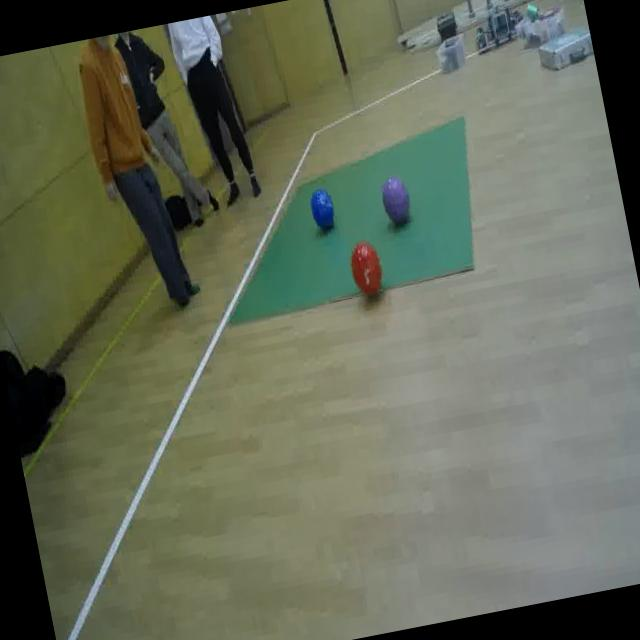blue_ball: (306, 189, 342, 233)
purple_ball: (380, 175, 416, 231)
red_ball: (346, 238, 388, 301)
